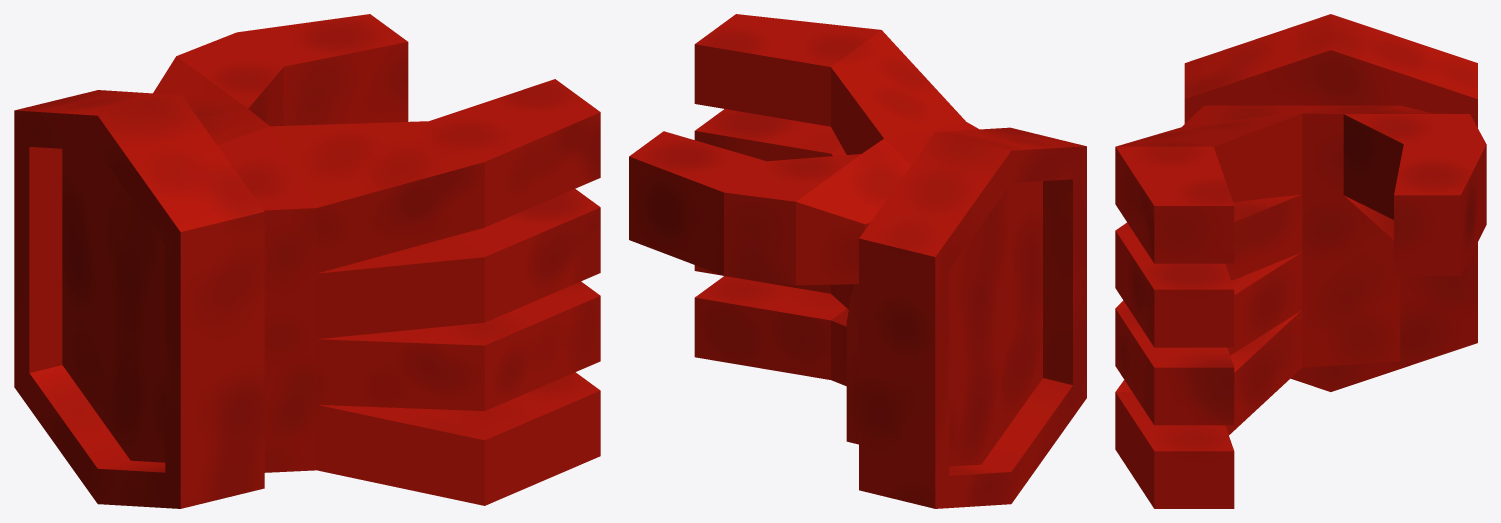
File: Grab_Hand_Mesh.fbx
The picture shows the model from 3 angles, left to right: view 1: azimuth 30°, elevation 25°; view 2: azimuth 150°, elevation 25°; view 3: azimuth 270°, elevation 25°; orthographic projection. The views are drawn at different scales.
Visible parts, largest first — view 1: pCube5; view 2: pCube5; view 3: pCube5.
Boxes of the visible parts, x1,y1,x2,y2 form: pCube5: [14, 14, 600, 508]; pCube5: [629, 14, 1086, 508]; pCube5: [1115, 14, 1486, 508].
Bounding box in the file's own units: 21.48 × 19.79 × 19.45.
1 material, 1 textured.
